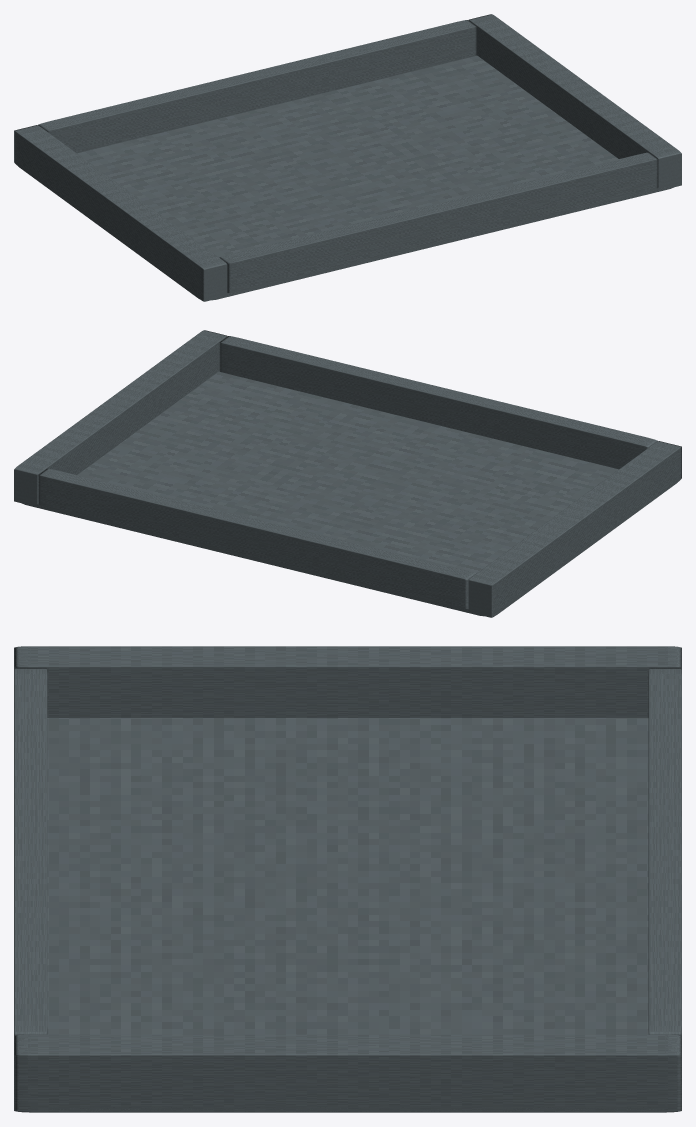
The model's file is sheet-pan.glb.
The picture shows the model from 3 angles, top to bottom: view 1: azimuth 30°, elevation 25°; view 2: azimuth 150°, elevation 25°; view 3: azimuth 270°, elevation 25°; orthographic projection. The views are drawn at different scales.
Visible parts, largest first — view 1: bottom, edge (×2), side (×2); view 2: bottom, edge (×2), side (×2); view 3: bottom, side (×2), edge (×2).
Boxes of the visible parts, box(x1,y1,x2,y2) form: bottom: box(18, 55, 673, 300); edge (×2): box(38, 20, 658, 292); side (×2): box(14, 14, 681, 301); bottom: box(22, 371, 677, 616); edge (×2): box(37, 336, 657, 608); side (×2): box(14, 330, 681, 617); bottom: box(29, 718, 666, 1112); side (×2): box(14, 646, 681, 1112); edge (×2): box(14, 667, 681, 1035).
Size of the model in its own units: 0.42 by 0.028 by 0.29.
Materials: 1 (1 with a texture image).
